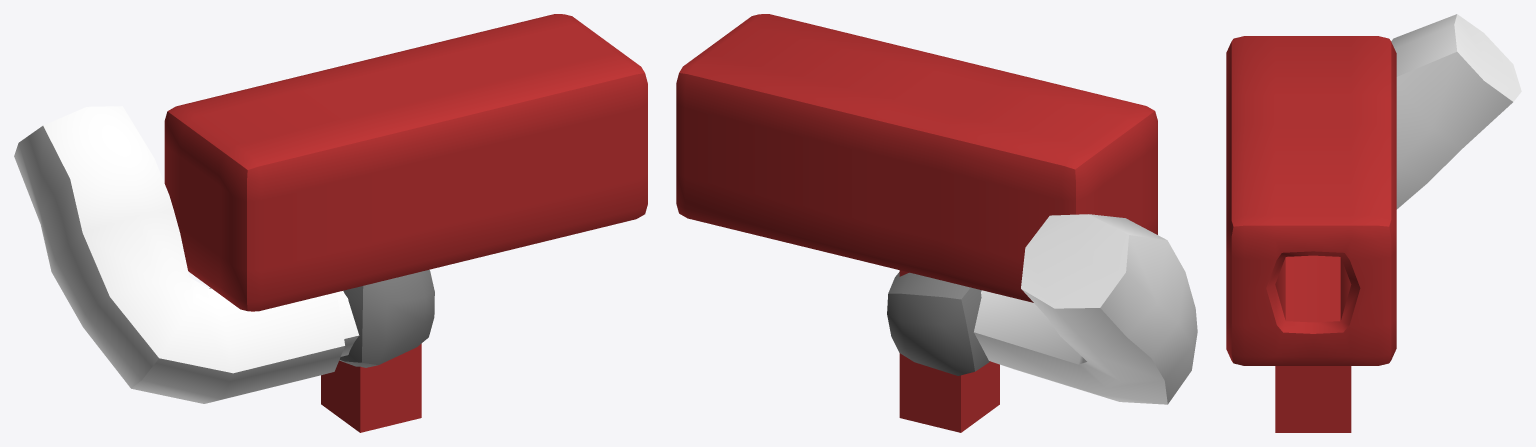
The model's file is card_arm_right.gltf.
The picture shows the model from 3 angles, left to right: view 1: azimuth 30°, elevation 25°; view 2: azimuth 150°, elevation 25°; view 3: azimuth 270°, elevation 25°; orthographic projection. The views are drawn at different scales.
Visible parts, largest first — view 1: card_arm_right-Mat_c_5, card_arm_right-Mat_c_3, card_arm_right-Mat_c_4; view 2: card_arm_right-Mat_c_5, card_arm_right-Mat_c_3, card_arm_right-Mat_c_4; view 3: card_arm_right-Mat_c_5, card_arm_right-Mat_c_3.
Boxes of the visible parts, box(x1,y1,x2,y2) form: card_arm_right-Mat_c_5: box(164, 14, 647, 432); card_arm_right-Mat_c_3: box(14, 106, 359, 403); card_arm_right-Mat_c_4: box(339, 270, 434, 367); card_arm_right-Mat_c_5: box(676, 14, 1157, 432); card_arm_right-Mat_c_3: box(974, 214, 1197, 404); card_arm_right-Mat_c_4: box(887, 272, 989, 375); card_arm_right-Mat_c_5: box(1226, 36, 1396, 432); card_arm_right-Mat_c_3: box(1391, 14, 1521, 209).
Size of the model in its own units: 251 by 149 by 129.
